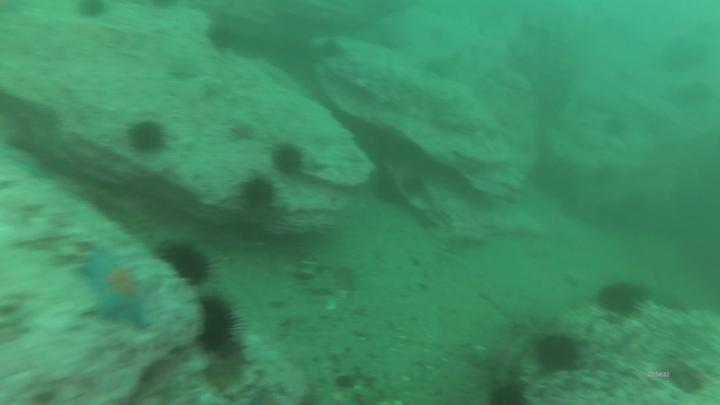echinus: (161, 243, 212, 282), (538, 334, 579, 374), (205, 300, 236, 347), (599, 285, 648, 312), (126, 125, 165, 152), (244, 177, 272, 210), (275, 146, 303, 176), (373, 174, 400, 205), (209, 23, 235, 50), (402, 175, 426, 197)
starfish: (84, 253, 151, 329)
